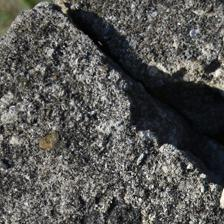Crack: (75, 13, 220, 178)
